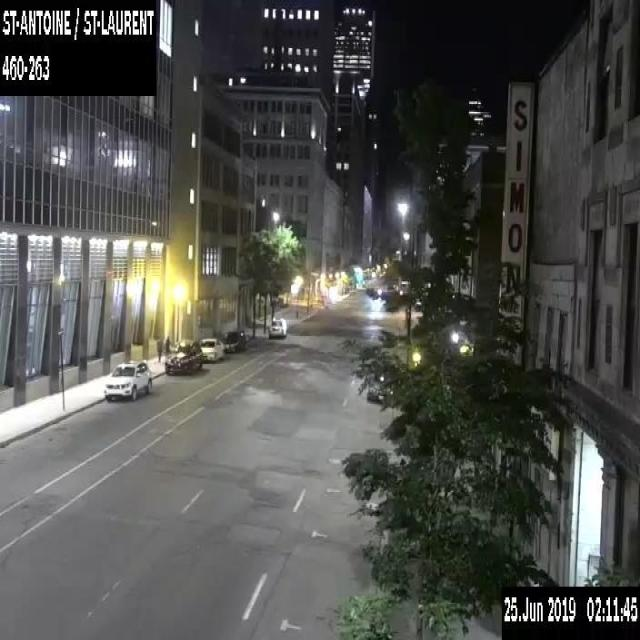pedestrian: (156, 336, 163, 361), (164, 336, 170, 354)
vehicle: (103, 359, 152, 400), (164, 338, 203, 375), (366, 373, 392, 401), (198, 337, 225, 361), (223, 328, 248, 352), (267, 316, 288, 340)
